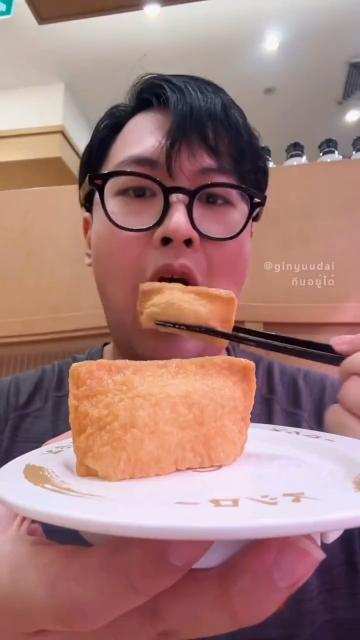janwhite: (1, 454, 360, 554)
